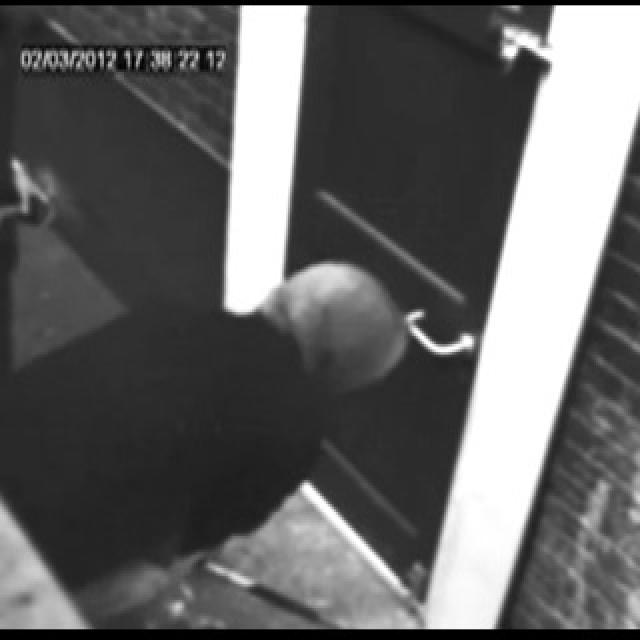thief: (247, 240, 423, 442)
